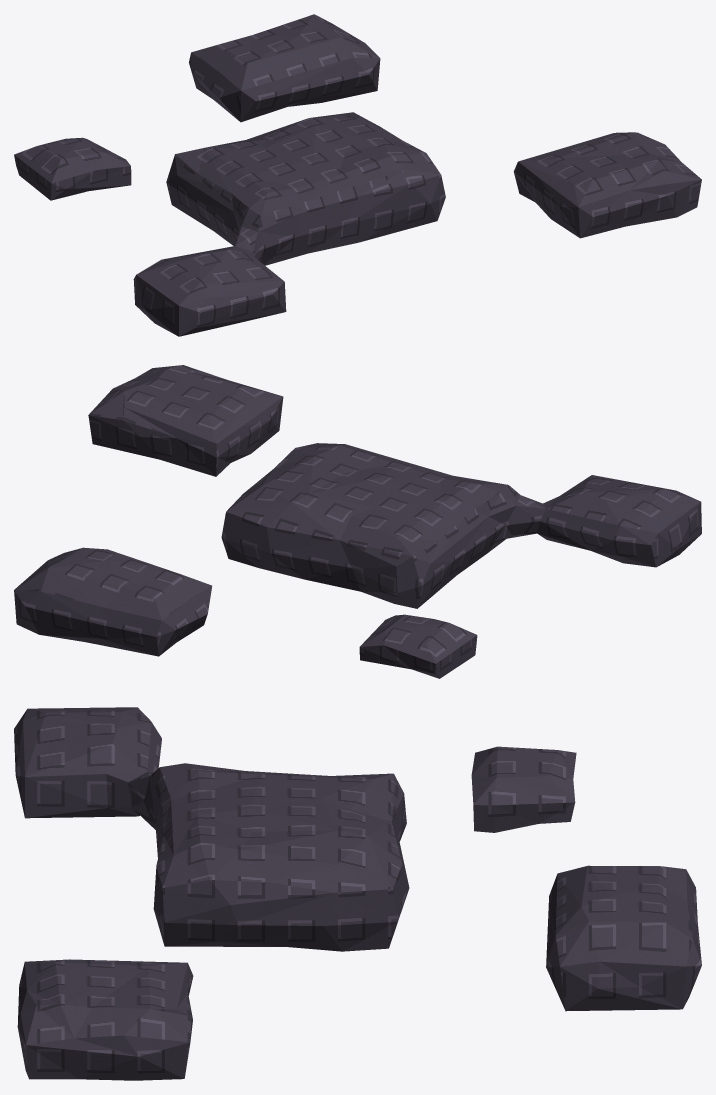
Rendered from BasaltFlatStones.glb.
3 views of the same model, one above another, from view 1: azimuth 30°, elevation 25°; view 2: azimuth 150°, elevation 25°; view 3: azimuth 270°, elevation 25° (orthographic). The views are drawn at different scales.
Parts seen in each view (by area): view 1: BasaltFlatStones_Rock; view 2: BasaltFlatStones_Rock; view 3: BasaltFlatStones_Rock.
Part boxes in pixels (x1,y1,x2,y2): BasaltFlatStones_Rock: [14, 14, 701, 336]; BasaltFlatStones_Rock: [14, 365, 701, 678]; BasaltFlatStones_Rock: [14, 707, 701, 1080].
Bounding box in the file's own units: 16.14 × 2.04 × 13.72.
1 material, 1 textured.
